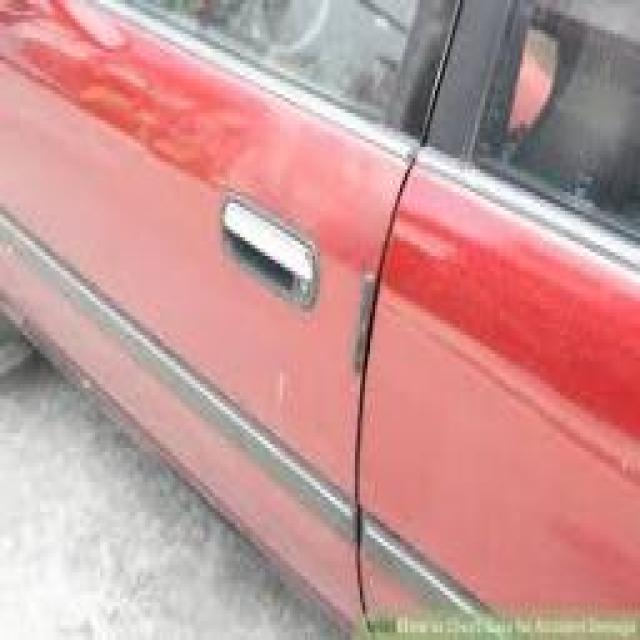Door: (212, 294, 340, 467)
